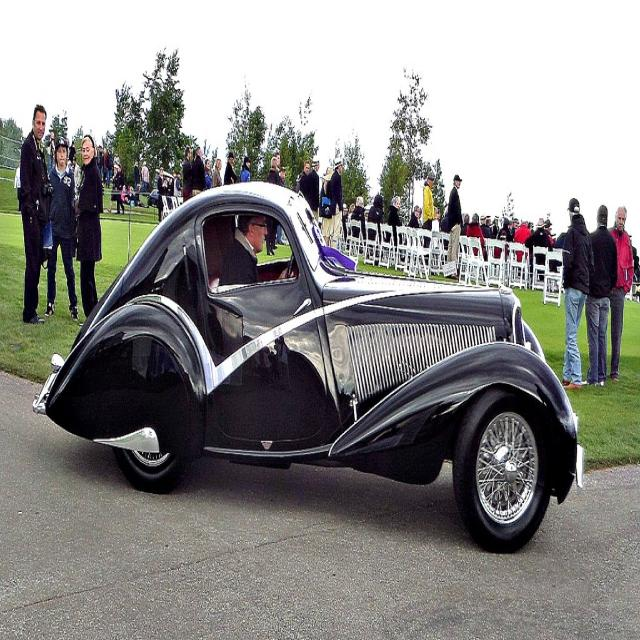car: (45, 188, 586, 523)
